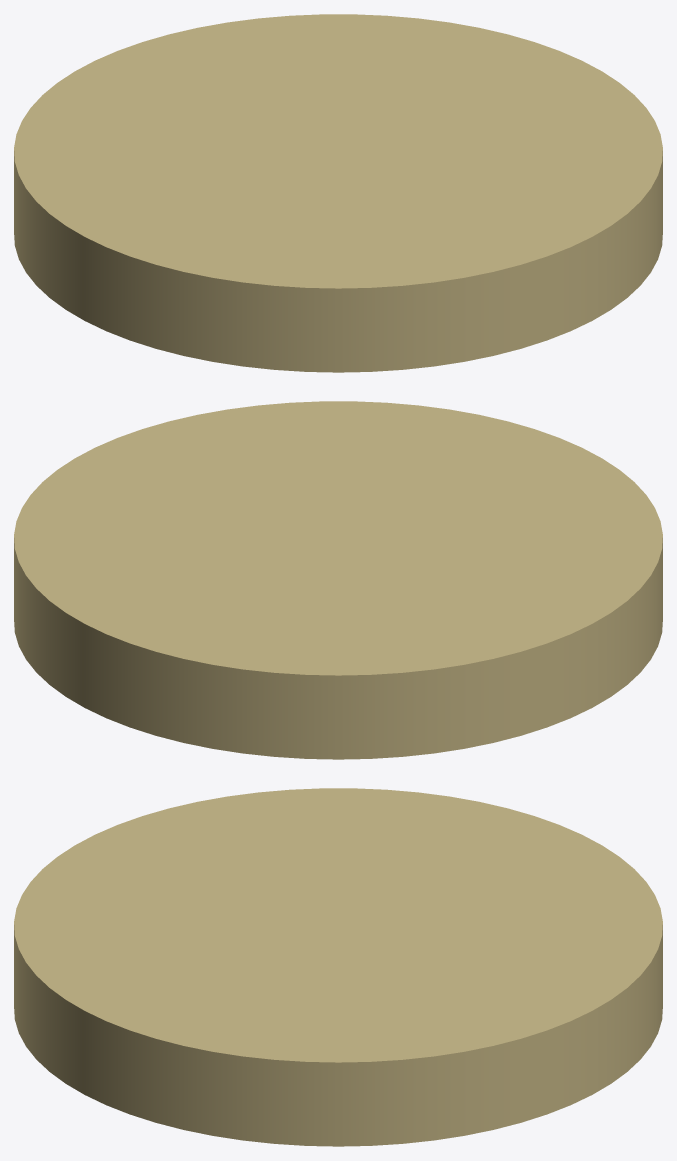
Rendered from step_02.glb.
The picture shows the model from 3 angles, top to bottom: view 1: azimuth 30°, elevation 25°; view 2: azimuth 150°, elevation 25°; view 3: azimuth 270°, elevation 25°; orthographic projection.
Visible parts, largest first — view 1: part__flanged bush; view 2: part__flanged bush; view 3: part__flanged bush.
Part boxes in pixels (box(x1,y1,x2,y2)): part__flanged bush: box(14, 14, 662, 372); part__flanged bush: box(14, 401, 662, 759); part__flanged bush: box(14, 788, 662, 1146).
Bounding box in the file's own units: 69.96 × 10 × 69.98.
